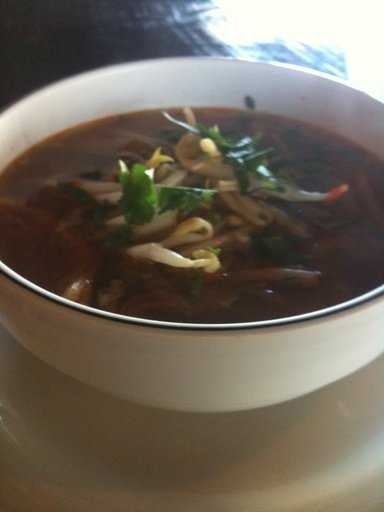soup: (11, 82, 367, 315)
